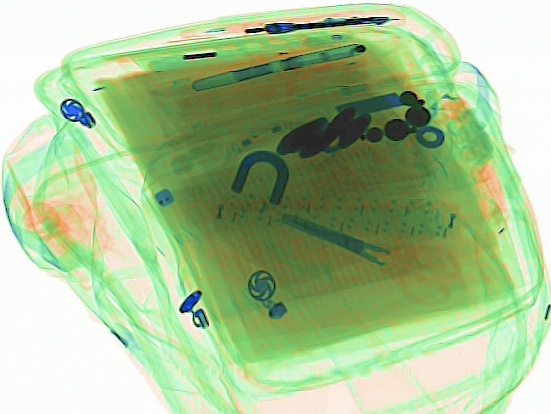scissors: (279, 210, 462, 308)
